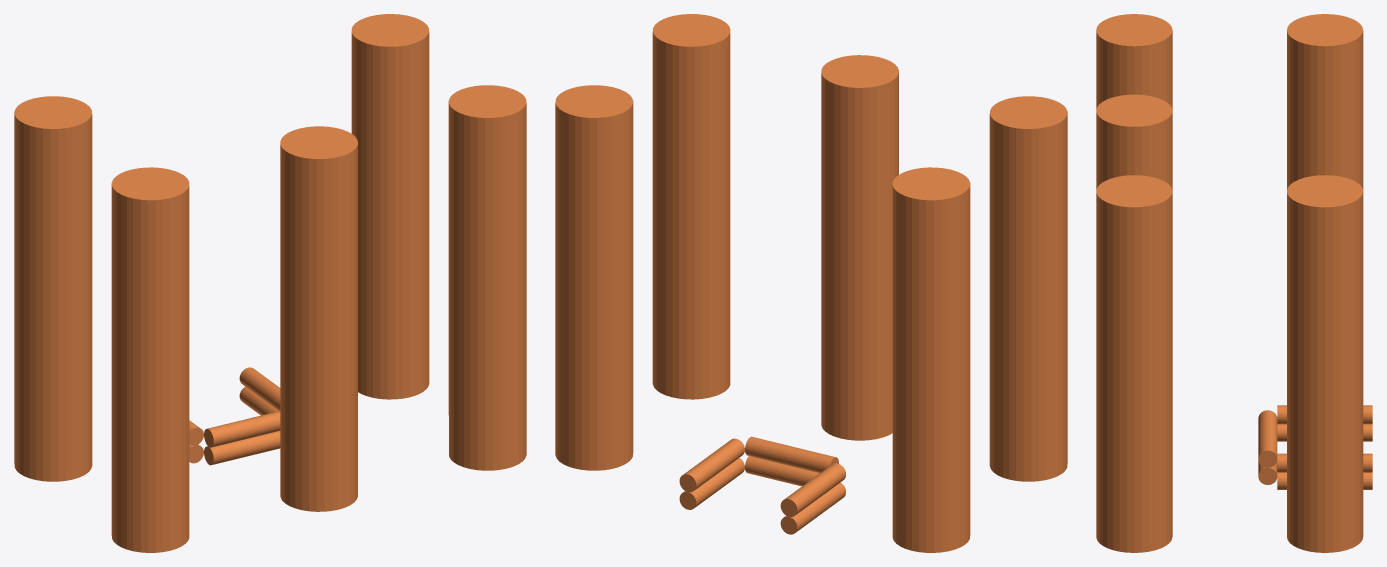
Rendered from WoodCutters.glb.
3 renders of one model, left to right at view 1: azimuth 30°, elevation 25°; view 2: azimuth 150°, elevation 25°; view 3: azimuth 270°, elevation 25°, orthographic. The views are drawn at different scales.
Visible parts, largest first — view 1: Cylinder.009; view 2: Cylinder.009; view 3: Cylinder.009.
Boxes of the visible parts, <box> form: Cylinder.009: <box>14,14,526,552</box>; Cylinder.009: <box>555,14,1067,552</box>; Cylinder.009: <box>1096,14,1372,552</box>.
Size of the model in its own units: 2.4 by 2.05 by 1.45.
